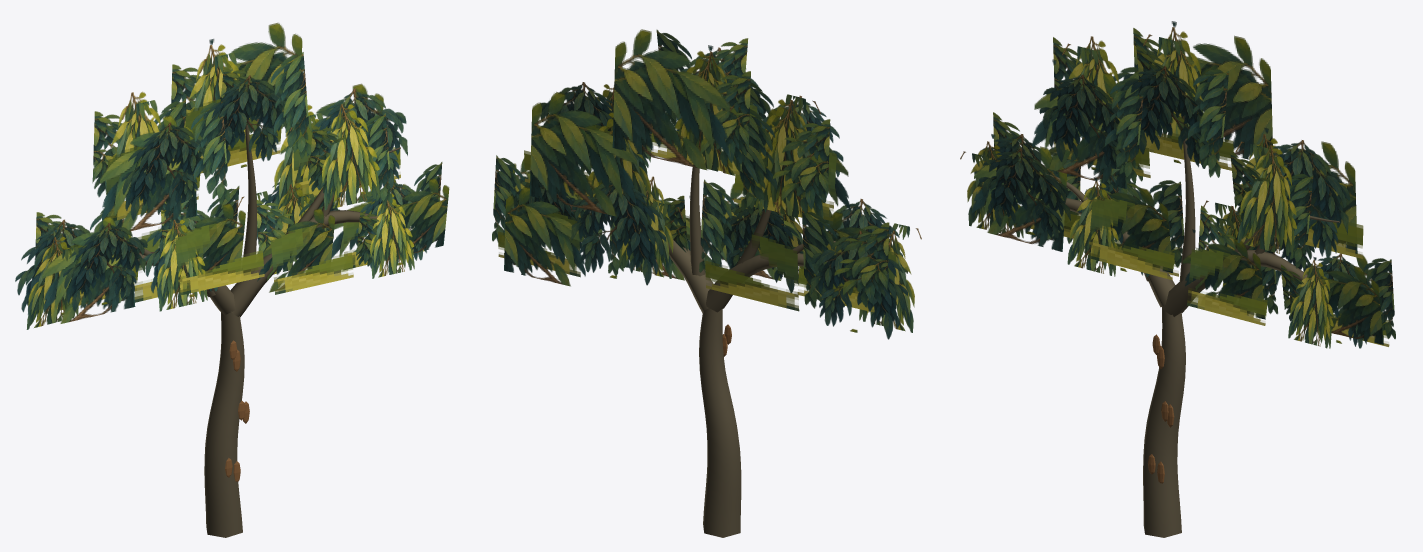
File: TREE_EUCALYPTUS_001_LOD_CLOSE.glb
3 views of the same model, side by side, from view 1: azimuth 30°, elevation 25°; view 2: azimuth 150°, elevation 25°; view 3: azimuth 330°, elevation 25° (orthographic). The views are drawn at different scales.
Parts seen in each view (by area): view 1: GG_EUC_V4_MAIN_TRUNK, GG_EUC_FRONT_ISLAND_01_CLUSTER_01, GG_EUC_FRONT_ISLAND_03_CLUSTER_02, GG_EUC_FRONT_ISLAND_00_CLUSTER_02, GG_EUC_BODY_ISLAND_01_CLUSTER_00, GG_EUC_FRONT_ISLAND_02_CLUSTER_00, GG_EUC_BODY_ISLAND_00_CLUSTER_01, GG_EUC_FRONT_ISLAND_05_CLUSTER_02, GG_EUC_FRONT_ISLAND_06_CLUSTER_01, GG_EUC_FRONT_ISLAND_02_CLUSTER_01, GG_EUC_REAR_ISLAND_02_CLUSTER_02, GG_EUC_FRONT_ISLAND_04_CLUSTER_01 (+35 smaller); view 2: GG_EUC_REAR_ISLAND_02_CLUSTER_02, GG_EUC_REAR_ISLAND_03_CLUSTER_01, GG_EUC_V4_MAIN_TRUNK, GG_EUC_REAR_ISLAND_06_CLUSTER_02, GG_EUC_REAR_ISLAND_04_CLUSTER_00, GG_EUC_REAR_ISLAND_00_CLUSTER_00, GG_EUC_REAR_ISLAND_05_CLUSTER_00, GG_EUC_REAR_ISLAND_01_CLUSTER_01, GG_EUC_REAR_ISLAND_01_CLUSTER_02, GG_EUC_REAR_ISLAND_00_CLUSTER_02, GG_EUC_REAR_ISLAND_02_CLUSTER_00, GG_EUC_REAR_ISLAND_01_CLUSTER_00 (+26 smaller); view 3: GG_EUC_V4_MAIN_TRUNK, GG_EUC_REAR_ISLAND_02_CLUSTER_02, GG_EUC_FRONT_ISLAND_00_CLUSTER_02, GG_EUC_FRONT_ISLAND_01_CLUSTER_01, GG_EUC_FRONT_ISLAND_03_CLUSTER_02, GG_EUC_FRONT_ISLAND_02_CLUSTER_00, GG_EUC_BODY_ISLAND_03_CLUSTER_02, GG_EUC_FRONT_ISLAND_04_CLUSTER_02, GG_EUC_FRONT_ISLAND_05_CLUSTER_02, GG_EUC_BODY_ISLAND_01_CLUSTER_00, GG_EUC_BODY_ISLAND_00_CLUSTER_01, GG_EUC_FRONT_ISLAND_06_CLUSTER_01 (+30 smaller).
Boxes of the visible parts, x1,y1,x2,y2 form: GG_EUC_V4_MAIN_TRUNK: (204, 312, 244, 537); GG_EUC_FRONT_ISLAND_01_CLUSTER_01: (121, 122, 207, 220); GG_EUC_FRONT_ISLAND_03_CLUSTER_02: (322, 104, 379, 210); GG_EUC_FRONT_ISLAND_00_CLUSTER_02: (63, 222, 147, 311); GG_EUC_BODY_ISLAND_01_CLUSTER_00: (100, 115, 197, 231); GG_EUC_FRONT_ISLAND_02_CLUSTER_00: (202, 75, 288, 174); GG_EUC_BODY_ISLAND_00_CLUSTER_01: (41, 216, 135, 323); GG_EUC_FRONT_ISLAND_05_CLUSTER_02: (175, 221, 264, 295); GG_EUC_FRONT_ISLAND_06_CLUSTER_01: (271, 224, 353, 294); GG_EUC_FRONT_ISLAND_02_CLUSTER_01: (271, 52, 311, 158); GG_EUC_REAR_ISLAND_02_CLUSTER_02: (190, 23, 302, 145); GG_EUC_FRONT_ISLAND_04_CLUSTER_01: (370, 194, 414, 278); GG_EUC_REAR_ISLAND_02_CLUSTER_02: (612, 29, 729, 170); GG_EUC_REAR_ISLAND_03_CLUSTER_01: (529, 92, 636, 216); GG_EUC_V4_MAIN_TRUNK: (699, 308, 741, 537); GG_EUC_REAR_ISLAND_06_CLUSTER_02: (571, 182, 666, 285); GG_EUC_REAR_ISLAND_04_CLUSTER_00: (504, 186, 585, 286); GG_EUC_REAR_ISLAND_00_CLUSTER_00: (810, 230, 907, 339); GG_EUC_REAR_ISLAND_05_CLUSTER_00: (705, 232, 799, 311); GG_EUC_REAR_ISLAND_01_CLUSTER_01: (772, 119, 830, 213); GG_EUC_REAR_ISLAND_01_CLUSTER_02: (759, 99, 823, 218); GG_EUC_REAR_ISLAND_00_CLUSTER_02: (833, 222, 889, 307); GG_EUC_REAR_ISLAND_02_CLUSTER_00: (691, 71, 750, 167); GG_EUC_REAR_ISLAND_01_CLUSTER_00: (738, 107, 778, 215); GG_EUC_V4_MAIN_TRUNK: (1143, 306, 1185, 537); GG_EUC_REAR_ISLAND_02_CLUSTER_02: (1171, 21, 1272, 159); GG_EUC_FRONT_ISLAND_00_CLUSTER_02: (979, 148, 1070, 237); GG_EUC_FRONT_ISLAND_01_CLUSTER_01: (1039, 74, 1127, 169); GG_EUC_FRONT_ISLAND_03_CLUSTER_02: (1237, 145, 1296, 256); GG_EUC_FRONT_ISLAND_02_CLUSTER_00: (1124, 66, 1211, 168); GG_EUC_BODY_ISLAND_03_CLUSTER_02: (1249, 140, 1349, 258); GG_EUC_FRONT_ISLAND_04_CLUSTER_02: (1313, 257, 1383, 344); GG_EUC_FRONT_ISLAND_05_CLUSTER_02: (1087, 196, 1174, 280); GG_EUC_BODY_ISLAND_01_CLUSTER_00: (1032, 59, 1128, 188); GG_EUC_BODY_ISLAND_00_CLUSTER_01: (972, 134, 1066, 251); GG_EUC_FRONT_ISLAND_06_CLUSTER_01: (1187, 247, 1267, 325).
Bounding box in the file's own units: 6.46 × 7.16 × 0.8615.
Materials: 3 (1 with a texture image).
